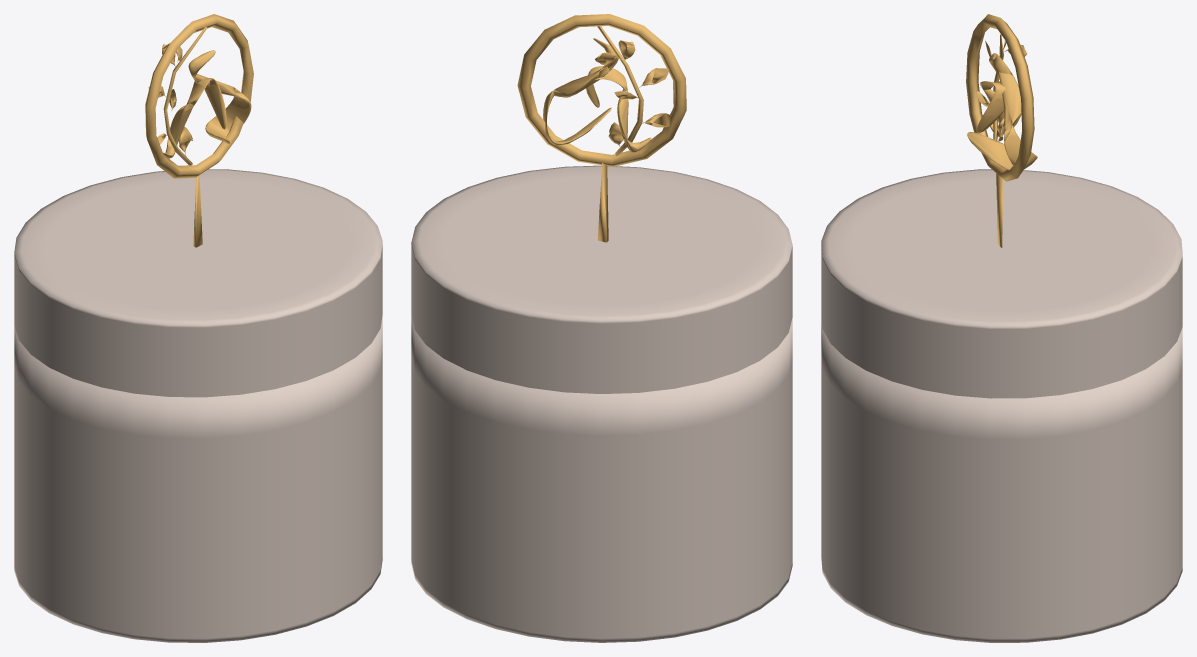
Rendered from 1-tier-white-none-ring.glb.
3 views of the same model, side by side, from view 1: azimuth 30°, elevation 25°; view 2: azimuth 150°, elevation 25°; view 3: azimuth 270°, elevation 25° (orthographic).
Parts seen in each view (by area): view 1: Cylinder.019, Cylinder.017; view 2: Cylinder.019, Cylinder.017; view 3: Cylinder.019, Cylinder.017.
Boxes of the visible parts, x1,y1,x2,y2 form: Cylinder.019: (14, 169, 382, 642); Cylinder.017: (145, 14, 253, 247); Cylinder.019: (411, 165, 792, 642); Cylinder.017: (517, 14, 686, 242); Cylinder.019: (821, 169, 1182, 642); Cylinder.017: (966, 14, 1037, 247).
Bounding box in the file's own units: 2.63 × 4.23 × 2.55.
